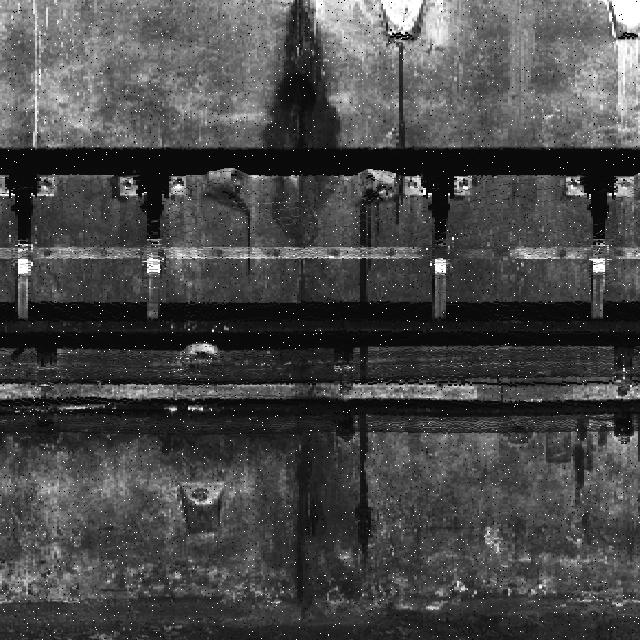leakage: (249, 4, 350, 245), (263, 410, 376, 624), (563, 419, 608, 518)
